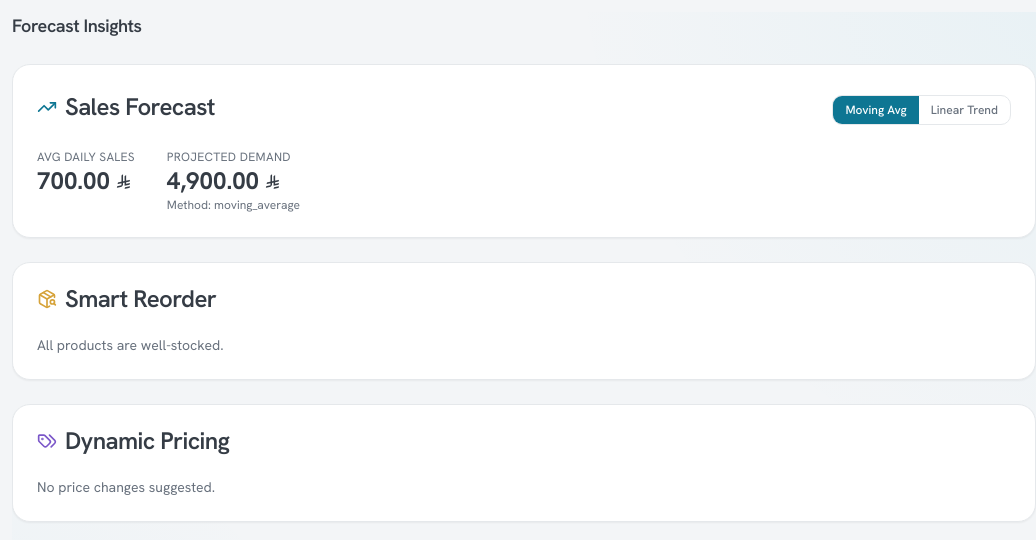
Test: ForecastInsights sales-method toggle (#228 linear-trend surface) › re-fetches with method=linear_trend when the Linear Trend model is chosen
Check: the text "Avg Daily Sales" is shown, box [37,149,135,165]
Click the button "Linear Trend": (964, 110) [919,96,1010,124]
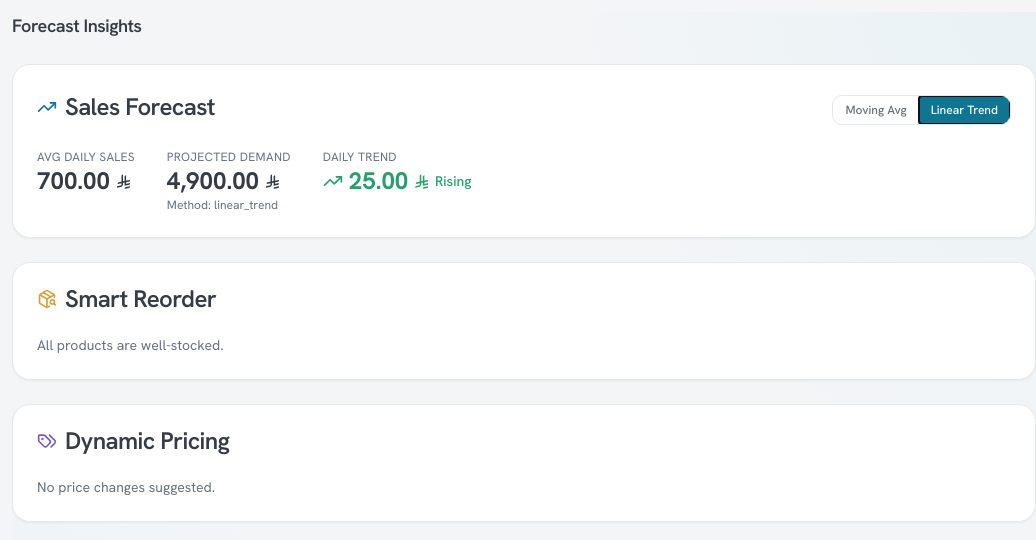
Check: the button "Linear Trend" is pressed, box [919,96,1010,124]
